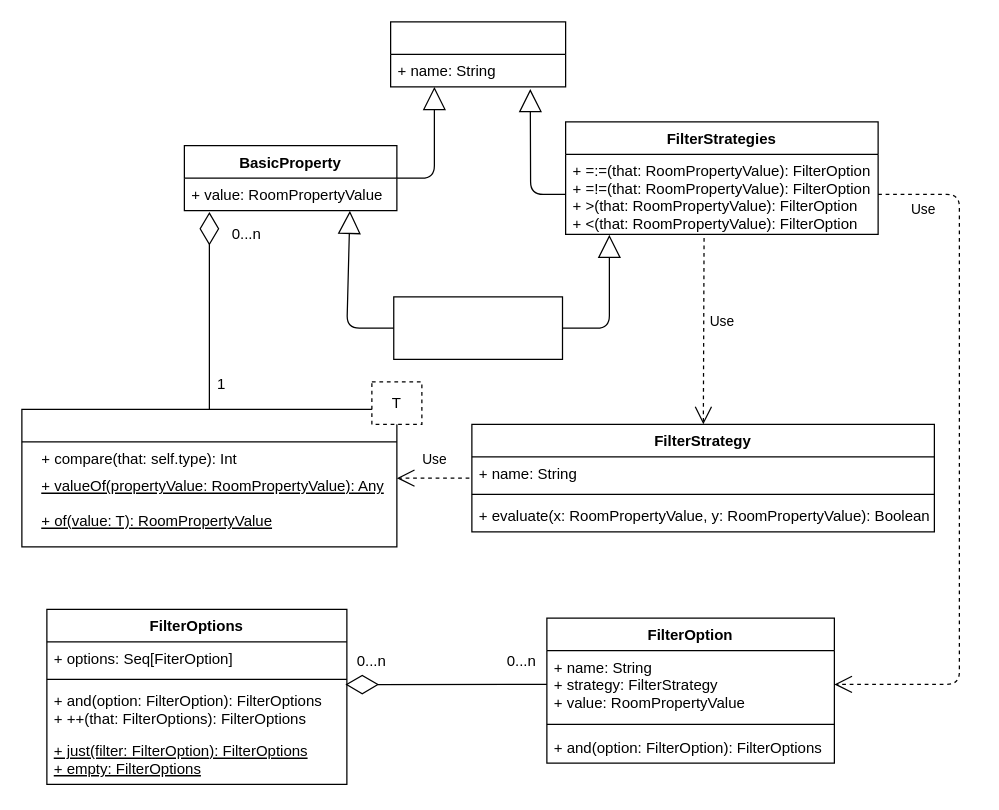
Image size: 999x810. Some labels were removed from this diagram. The box of each missing label's shape, as (x1, y1, x2, y2) in pixels:
Property: (389, 21, 566, 87)
RoomProperty: (392, 296, 562, 359)
RoomPropertyValue: (21, 408, 397, 547)
